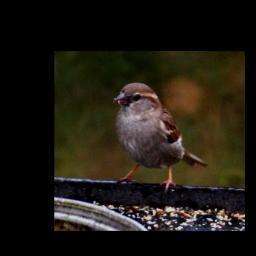Sparrow: (111, 81, 208, 195)
